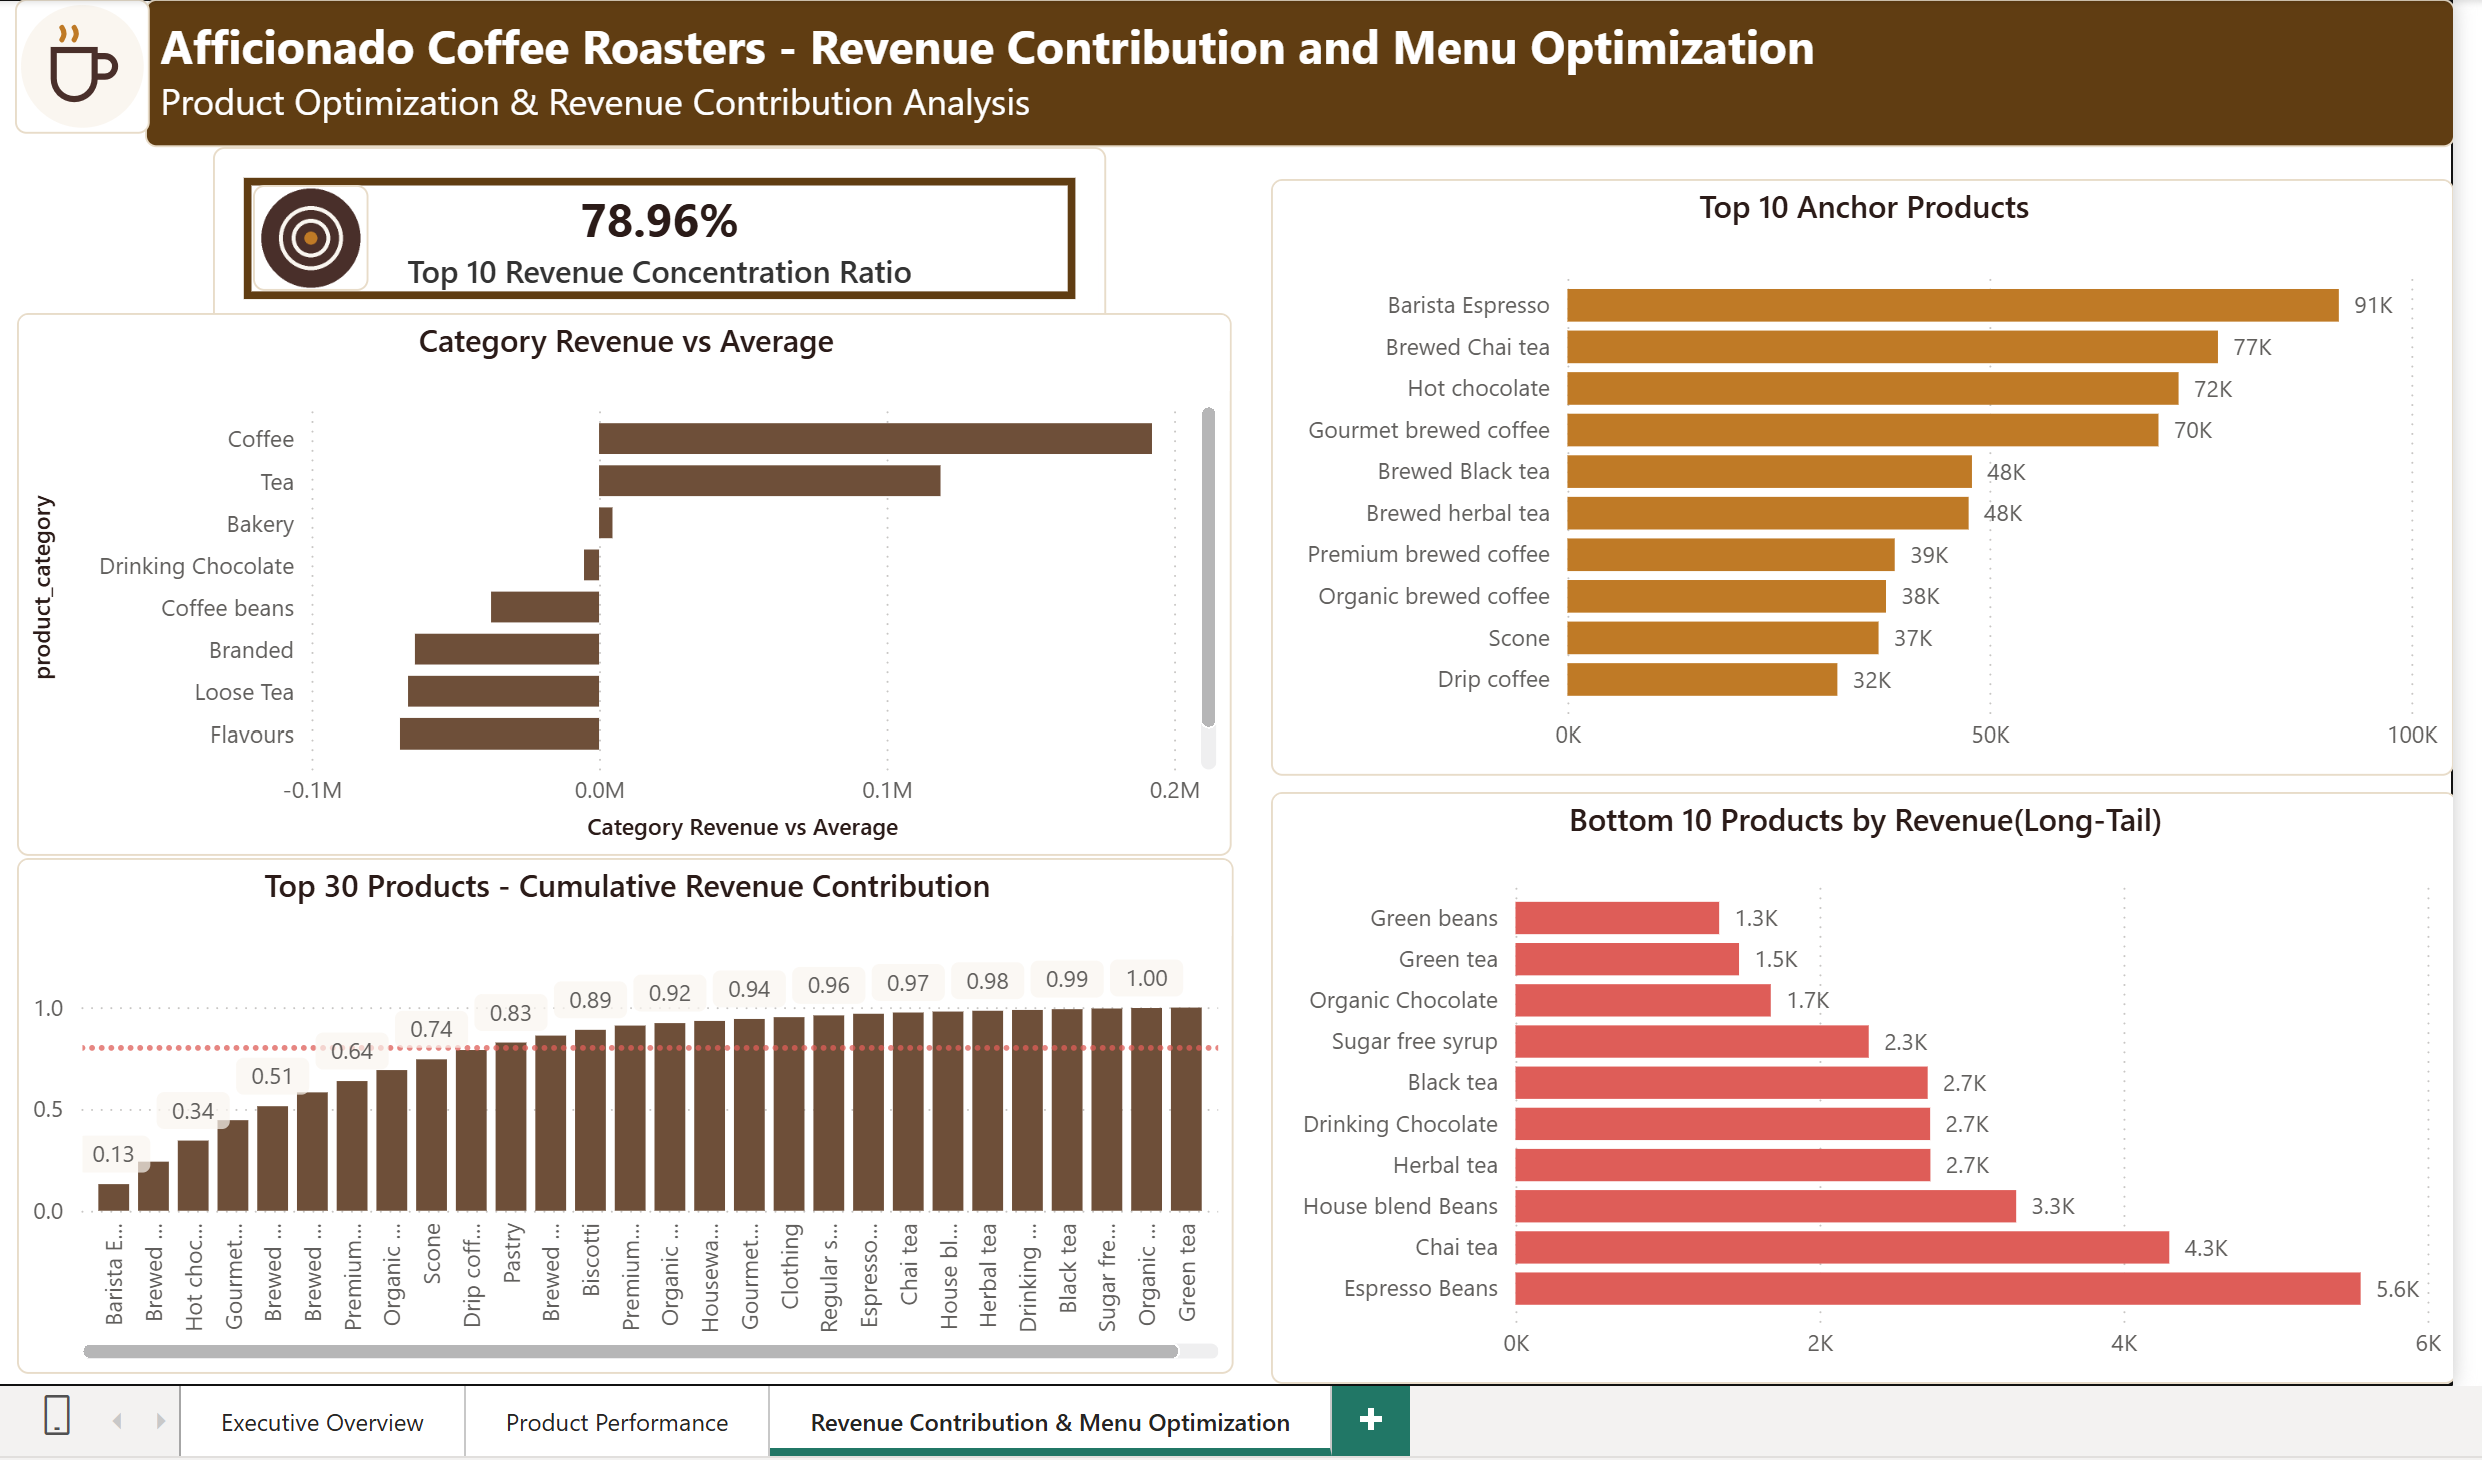

The dashboard page shown, as its layout file describes it:
{"tool":"powerbi","page":{"name":"Revenue Contribution & Menu Optimization","canvas":[1280,720],"ordinal":2},"visuals":[{"type":"textbox","box":[81.3,0,1199.9,76.8],"z":0},{"type":"cardVisual","fields":{"Data":["cleaned_coffee_sales.Revenue Concentration Ratio"]},"box":[116.9,76.8,464.1,95.7],"z":1000},{"type":"lineClusteredColumnComboChart","title":"Top 30 Products - Cumulative Revenue Contribution ","fields":{"Y":["cleaned_coffee_sales.Cumulative Revenue %"],"Category":["cleaned_coffee_sales.product_type"]},"box":[14.5,445.2,632.2,268.2],"z":2000},{"type":"clusteredBarChart","title":"Top 10 Anchor Products","fields":{"Category":["cleaned_coffee_sales.product_type"],"Y":["cleaned_coffee_sales.Total Revenue"]},"box":[665.6,93.5,614.4,309.4],"z":3000},{"type":"clusteredBarChart","title":"Bottom 10 Products by Revenue(Long-Tail)","fields":{"Category":["cleaned_coffee_sales.product_type"],"Y":["cleaned_coffee_sales.Total Revenue"]},"box":[665.5,411.8,615.8,307.3],"z":4000},{"type":"clusteredBarChart","title":"Category Revenue vs Average","fields":{"Category":["cleaned_coffee_sales.product_category"],"Y":["cleaned_coffee_sales.Category Revenue vs Average"]},"box":[14.5,163.6,631.1,281.6],"z":5000},{"type":"image","box":[13.4,0,70,70],"z":6000},{"type":"image","box":[136.9,96.8,60,55],"z":7000}]}

Visuals, with their boxes on the page's 1280x720 design canvas (x1, y1, x2, y2). These are canvas units, not pixel positions in the 2482x1460 screenshot, which may show the page scaled, cropped or inside an application window:
textbox: region(81, 0, 1281, 77)
cardVisual - cleaned_coffee_sales.Revenue Concentration Ratio: region(117, 77, 581, 172)
"Top 30 Products - Cumulative Revenue Contribution " lineClusteredColumnComboChart: region(14, 445, 647, 713)
"Top 10 Anchor Products" clusteredBarChart: region(666, 94, 1280, 403)
"Bottom 10 Products by Revenue(Long-Tail)" clusteredBarChart: region(666, 412, 1281, 719)
"Category Revenue vs Average" clusteredBarChart: region(14, 164, 646, 445)
image: region(13, 0, 83, 70)
image: region(137, 97, 197, 152)
